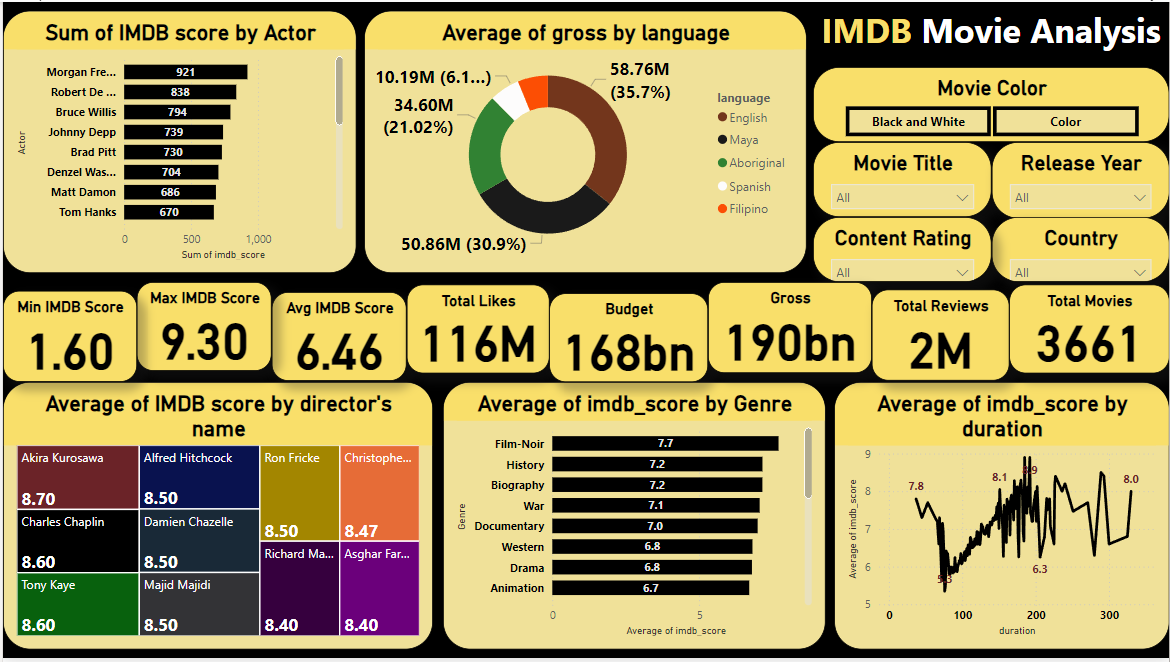

This screenshot's page, from the dashboard's own definition file:
{"tool":"powerbi","page":{"name":"Page 1","canvas":[1280,720],"ordinal":0},"visuals":[{"type":"treemap","title":"Average of IMDB score by director''s name","fields":{"Group":["IMDB_Dataset(F).director_name"],"Values":["IMDB_Dataset(F).imdb_score"]},"box":[0,417.2,472,293.7],"z":0},{"type":"barChart","title":"Sum of IMDB score by Actor","fields":{"Category":["IMDB_Dataset(F).Actor"],"Y":["IMDB_Dataset(F).imdb_score"]},"box":[0,9.6,388.3,288.2],"z":1000},{"type":"card","title":"Avg IMDB Score","fields":{"Values":["imdb_copy.imdb_score"]},"box":[295,318.4,148.2,97.4],"z":2000},{"type":"card","title":"Max IMDB Score","fields":{"Values":["IMDB_Dataset(F).imdb_score"]},"box":[146.8,307.4,148.2,97.4],"z":3000},{"type":"card","title":"Min IMDB Score","fields":{"Values":["IMDB_Dataset(F).imdb_score"]},"box":[0,317,146.8,100.2],"z":4000},{"type":"donutChart","fields":{"Category":["IMDB_Dataset(F).language"],"Y":["IMDB_Dataset(F).gross"]},"box":[396.6,9.6,485.8,288.2],"z":5000},{"type":"barChart","fields":{"Category":["IMDB_Dataset(F).Genre"],"Y":["IMDB_Dataset(F).imdb_score"]},"box":[483,417.2,419.9,293.7],"z":6000},{"type":"lineChart","fields":{"Category":["IMDB_Dataset(F).duration"],"Y":["IMDB_Dataset(F).imdb_score"]},"box":[912.5,417.2,367.8,293.7],"z":7000},{"type":"card","title":"Total Likes","fields":{"Values":["imdb_copy.Total Likes"]},"box":[443.2,310.1,156.4,97.4],"z":8000},{"type":"card","title":"Budget","fields":{"Values":["imdb_copy.budget"]},"box":[599.7,319.7,174.3,97.4],"z":9000},{"type":"slicer","title":"Movie Title","fields":{"Values":["IMDB_Dataset(F).movie_title"]},"box":[889.2,153.7,196.2,82.3],"z":10000},{"type":"slicer","title":"Release Year","fields":{"Values":["IMDB_Dataset(F).title_year"]},"box":[1085.4,153.7,194.9,83.7],"z":11000},{"type":"slicer","title":"Country","fields":{"Values":["IMDB_Dataset(F).country"]},"box":[1085.4,236,194.9,71.4],"z":12000},{"type":"slicer","title":"Movie Color","fields":{"Values":["IMDB_Dataset(F).color"]},"box":[889.2,71.4,391.1,82.3],"z":13000},{"type":"slicer","title":"Content Rating","fields":{"Values":["IMDB_Dataset(F).content_rating"]},"box":[889.2,236,196.2,71.4],"z":14000},{"type":"card","title":"Gross","fields":{"Values":["imdb_copy.gross"]},"box":[773.9,307.4,179.8,100.2],"z":15000},{"type":"card","title":"Total Reviews","fields":{"Values":["imdb_copy.Total reviews"]},"box":[953.7,315.6,150.9,100.2],"z":16000},{"type":"card","title":"Total Movies","fields":{"Values":["imdb_copy.movie_title"]},"box":[1104.6,310.1,175.6,97.4],"z":17000},{"type":"textbox","box":[889.2,0,391.1,71.4],"z":18000}]}

Visuals, with their boxes in screenshot pixels (x1, y1, x2, y2), scaled from the page's 1280x720 canvas onto the 1170x662 screenshot:
"Average of IMDB score by director''s name" treemap: (left=0, top=384, right=431, bottom=654)
"Sum of IMDB score by Actor" barChart: (left=0, top=9, right=355, bottom=274)
"Avg IMDB Score" card: (left=270, top=293, right=405, bottom=382)
"Max IMDB Score" card: (left=134, top=283, right=270, bottom=372)
"Min IMDB Score" card: (left=0, top=291, right=134, bottom=384)
donutChart - IMDB_Dataset(F).language x IMDB_Dataset(F).gross: (left=363, top=9, right=807, bottom=274)
barChart - IMDB_Dataset(F).Genre x IMDB_Dataset(F).imdb_score: (left=441, top=384, right=825, bottom=654)
lineChart - IMDB_Dataset(F).duration x IMDB_Dataset(F).imdb_score: (left=834, top=384, right=1169, bottom=654)
"Total Likes" card: (left=405, top=285, right=548, bottom=375)
"Budget" card: (left=548, top=294, right=707, bottom=384)
"Movie Title" slicer: (left=813, top=141, right=992, bottom=217)
"Release Year" slicer: (left=992, top=141, right=1169, bottom=218)
"Country" slicer: (left=992, top=217, right=1169, bottom=283)
"Movie Color" slicer: (left=813, top=66, right=1169, bottom=141)
"Content Rating" slicer: (left=813, top=217, right=992, bottom=283)
"Gross" card: (left=707, top=283, right=872, bottom=375)
"Total Reviews" card: (left=872, top=290, right=1010, bottom=382)
"Total Movies" card: (left=1010, top=285, right=1169, bottom=375)
textbox: (left=813, top=0, right=1169, bottom=66)
